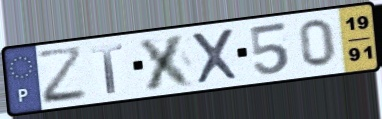0: (297, 17, 340, 70)
5: (248, 20, 292, 77)
T: (89, 41, 126, 95)
X: (135, 31, 198, 93), (188, 26, 242, 87)
Z: (33, 43, 90, 107)
